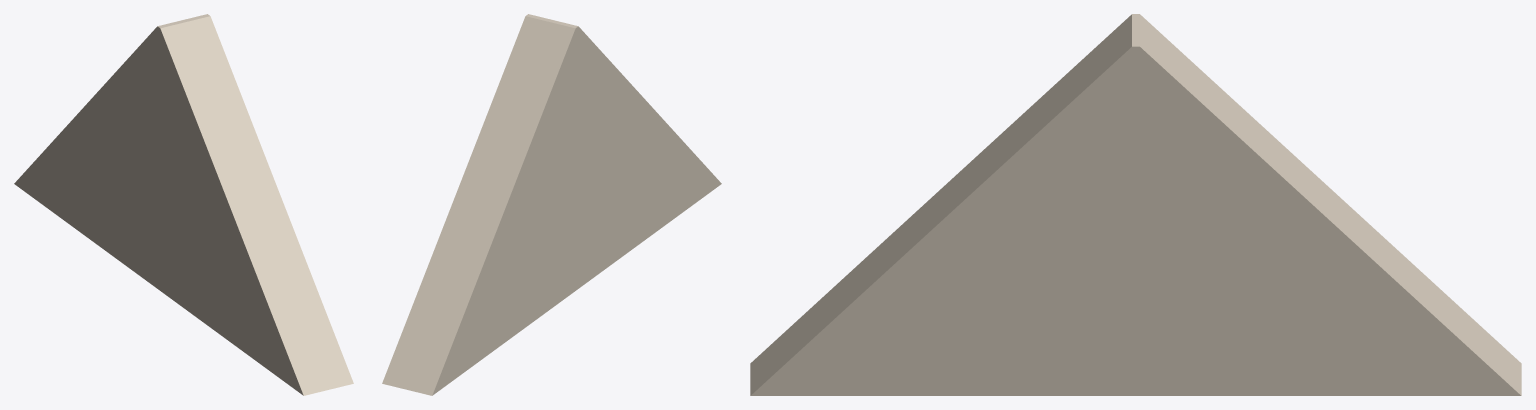
File: roof_gable_end.glb
3 views of the same model, side by side, from view 1: azimuth 30°, elevation 25°; view 2: azimuth 150°, elevation 25°; view 3: azimuth 270°, elevation 25° (orthographic). The views are drawn at different scales.
Visible parts, largest first — view 1: roof_gable_end; view 2: roof_gable_end; view 3: roof_gable_end.
Boxes of the visible parts, left/top/right/bottom form: roof_gable_end: left=14, top=14, right=353, bottom=395; roof_gable_end: left=382, top=14, right=721, bottom=395; roof_gable_end: left=750, top=14, right=1521, bottom=395.
Size of the model in its own units: 0.2 by 1 by 2.
